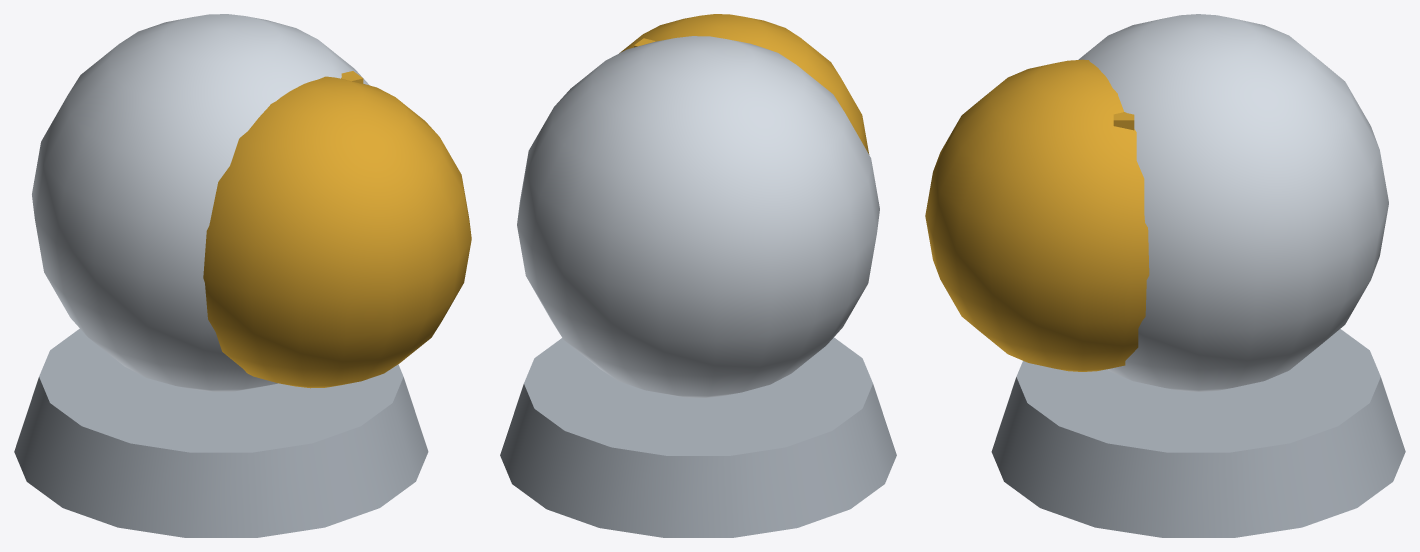
The model's file is astronaut.glb.
The picture shows the model from 3 angles, left to right: view 1: azimuth 30°, elevation 25°; view 2: azimuth 150°, elevation 25°; view 3: azimuth 270°, elevation 25°; orthographic projection. The views are drawn at different scales.
Parts seen in each view (by area): view 1: astronaut; view 2: astronaut; view 3: astronaut.
Boxes of the visible parts, x1,y1,x2,y2 form: astronaut: [14, 14, 471, 537]; astronaut: [500, 14, 896, 537]; astronaut: [925, 14, 1405, 537].
Bounding box in the file's own units: 0.7878 × 0.918 × 0.928.
